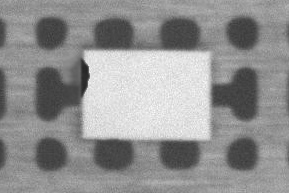DIE_BROKEN: (117, 37, 138, 65)
